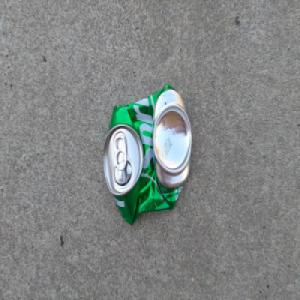SodaCan: (102, 82, 192, 227)
